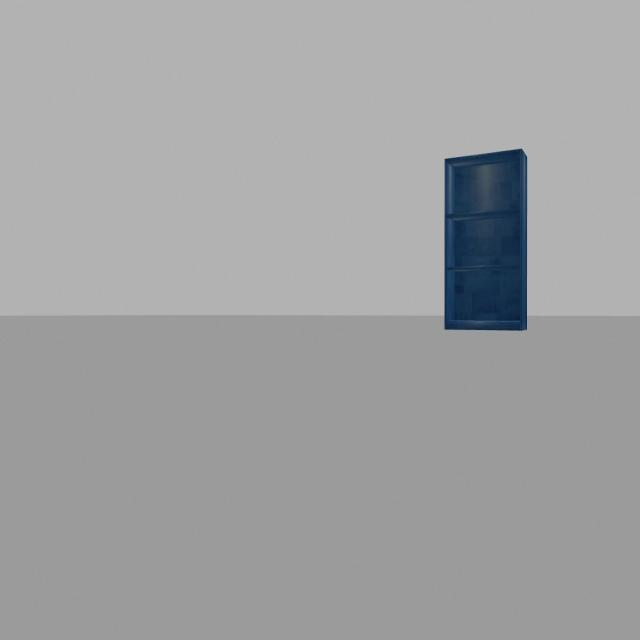shelf: (439, 132, 543, 350)
